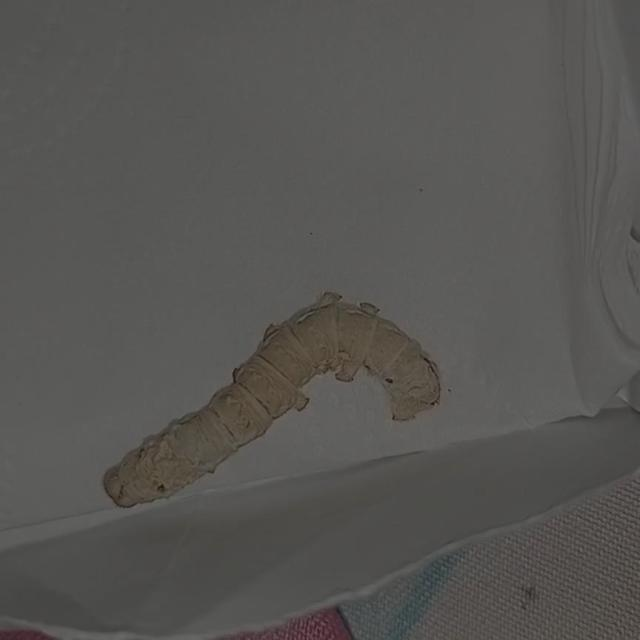Healthy: (93, 284, 447, 510)
